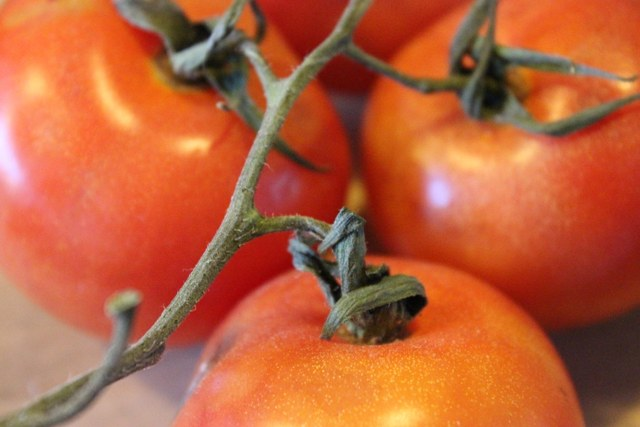tomato: (0, 0, 354, 342), (358, 0, 640, 331), (171, 252, 587, 427), (257, 1, 463, 99)
